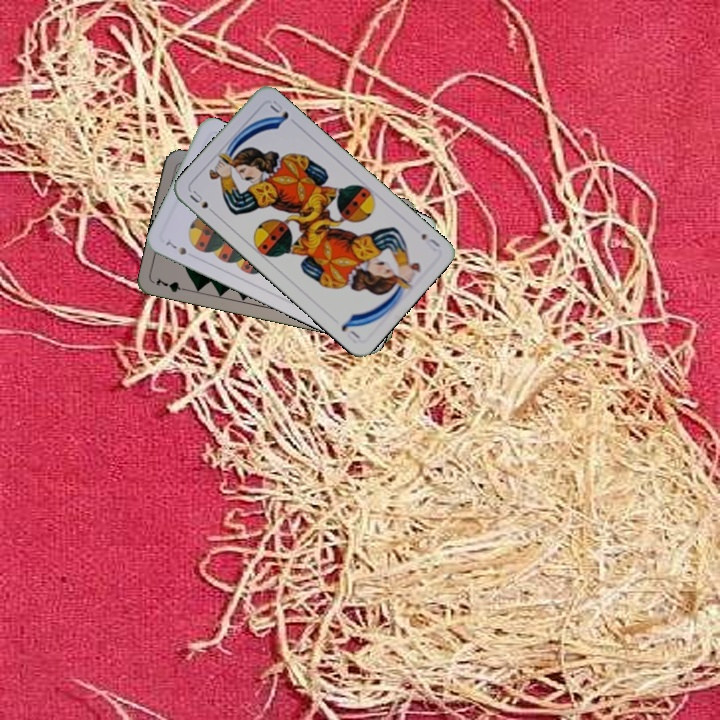G7: (152, 274, 192, 295)
S7: (162, 237, 189, 257)
SU: (185, 186, 220, 218), (417, 229, 443, 254)
